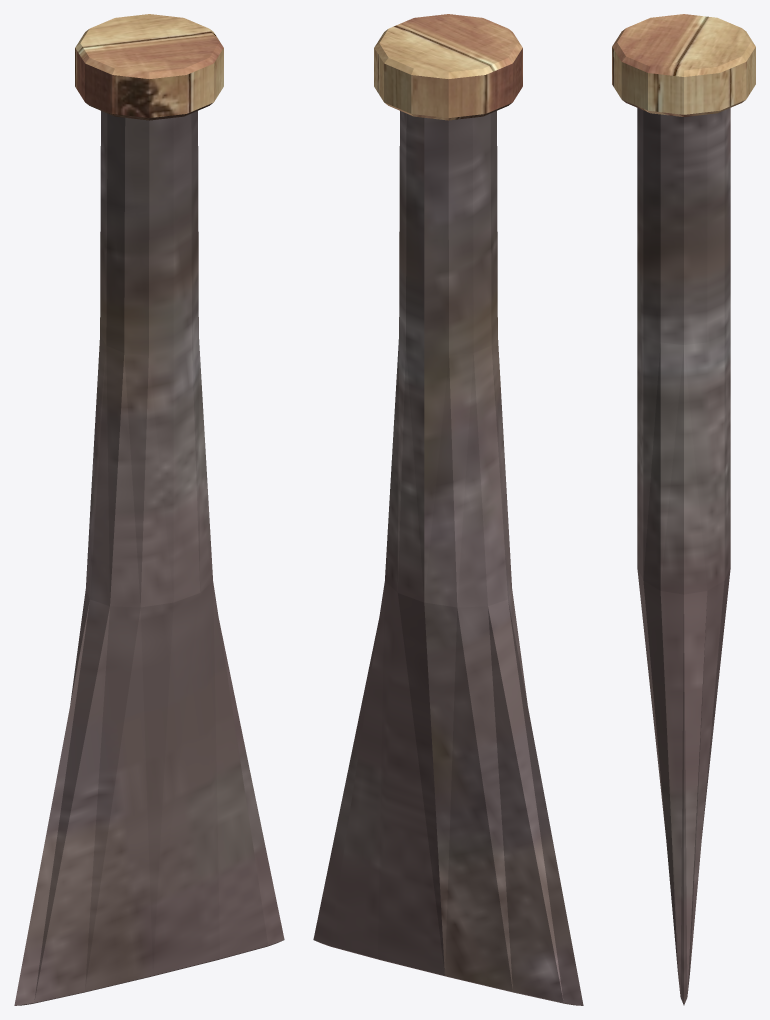
File: ZUBILO.fbx
The picture shows the model from 3 angles, left to right: view 1: azimuth 30°, elevation 25°; view 2: azimuth 150°, elevation 25°; view 3: azimuth 270°, elevation 25°; orthographic projection. The views are drawn at different scales.
Visible parts, largest first — view 1: шляпка_1; view 2: шляпка_1; view 3: шляпка_1.
Part boxes in pixels (<box>): шляпка_1: <box>14,14,284,1005</box>; шляпка_1: <box>313,14,583,1005</box>; шляпка_1: <box>612,14,755,1005</box>.
Bounding box in the file's own units: 854 × 2811 × 407.
2 materials, 2 textured.
